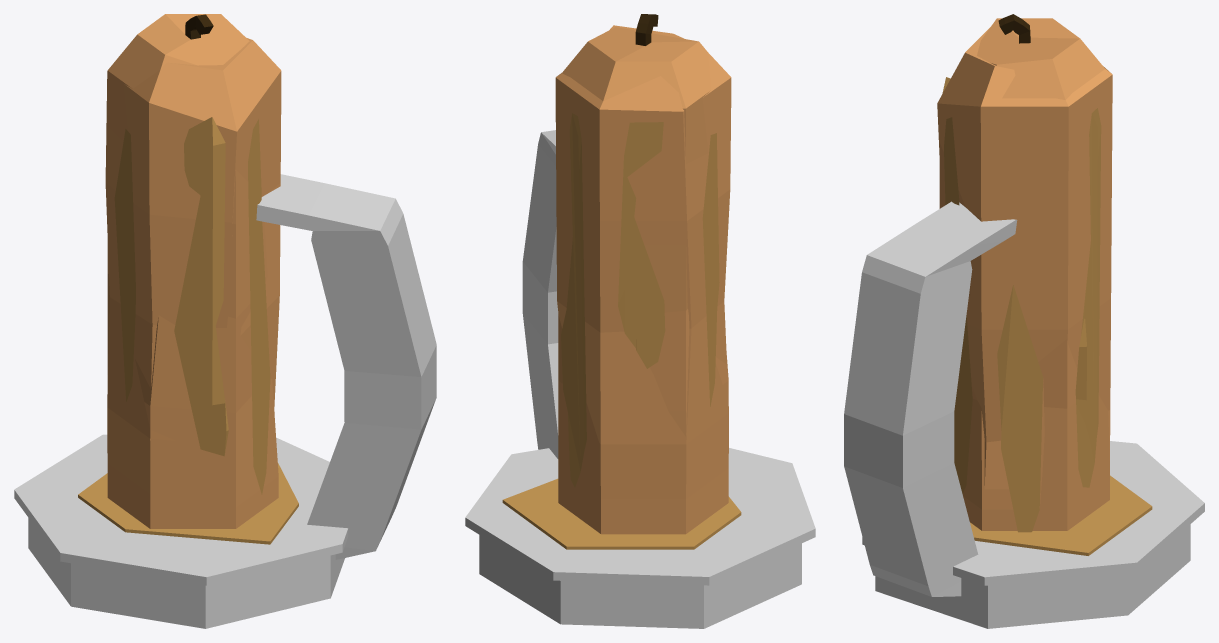
File: RemadeCandle.fbx
3 views of the same model, side by side, from view 1: azimuth 30°, elevation 25°; view 2: azimuth 150°, elevation 25°; view 3: azimuth 270°, elevation 25° (orthographic).
Parts seen in each view (by area): view 1: Candle, Handle, Dish, Candle Remade, Melted wax, Melted wax Base; view 2: Candle, Dish, Candle Remade, Melted wax, Handle, Melted wax Base, Wick; view 3: Handle, Candle, Dish, Candle Remade, Melted wax, Melted wax Base, Wick.
Part boxes in pixels (<box>): Candle: <box>105,38,281,493</box>; Handle: <box>256,174,436,559</box>; Dish: <box>14,434,348,628</box>; Candle Remade: <box>107,14,278,528</box>; Melted wax: <box>114,117,270,494</box>; Melted wax Base: <box>78,462,298,544</box>; Candle: <box>555,25,731,498</box>; Dish: <box>465,448,815,628</box>; Candle Remade: <box>558,27,728,534</box>; Melted wax: <box>561,113,719,487</box>; Handle: <box>522,130,558,458</box>; Melted wax Base: <box>502,478,741,549</box>; Wick: <box>635,14,658,45</box>; Handle: <box>844,201,1017,596</box>; Candle: <box>937,27,1112,489</box>; Dish: <box>862,441,1204,628</box>; Candle Remade: <box>939,18,1109,530</box>; Melted wax: <box>942,77,1101,532</box>; Melted wax Base: <box>970,475,1152,555</box>; Wick: <box>998,14,1030,43</box>.
Size of the model in its own units: 232 by 363 by 218.
